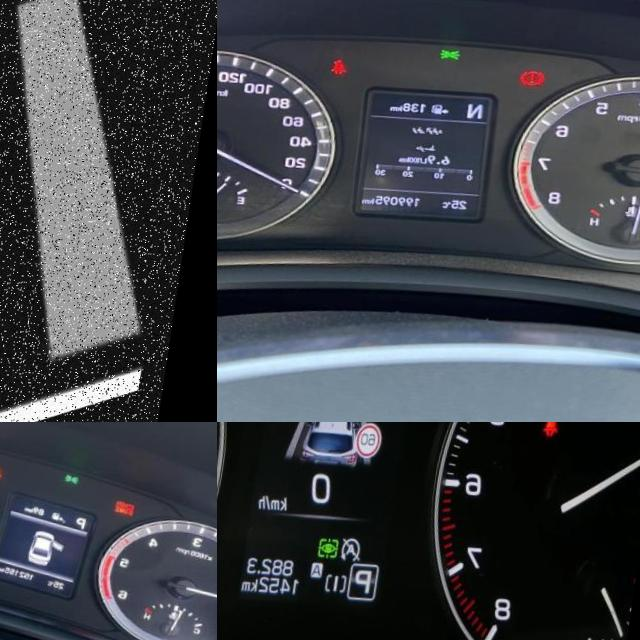Electronic Power Steering: (0, 0, 217, 422)
Seat Belt: (338, 54, 358, 72), (549, 422, 571, 430), (0, 460, 9, 474)
